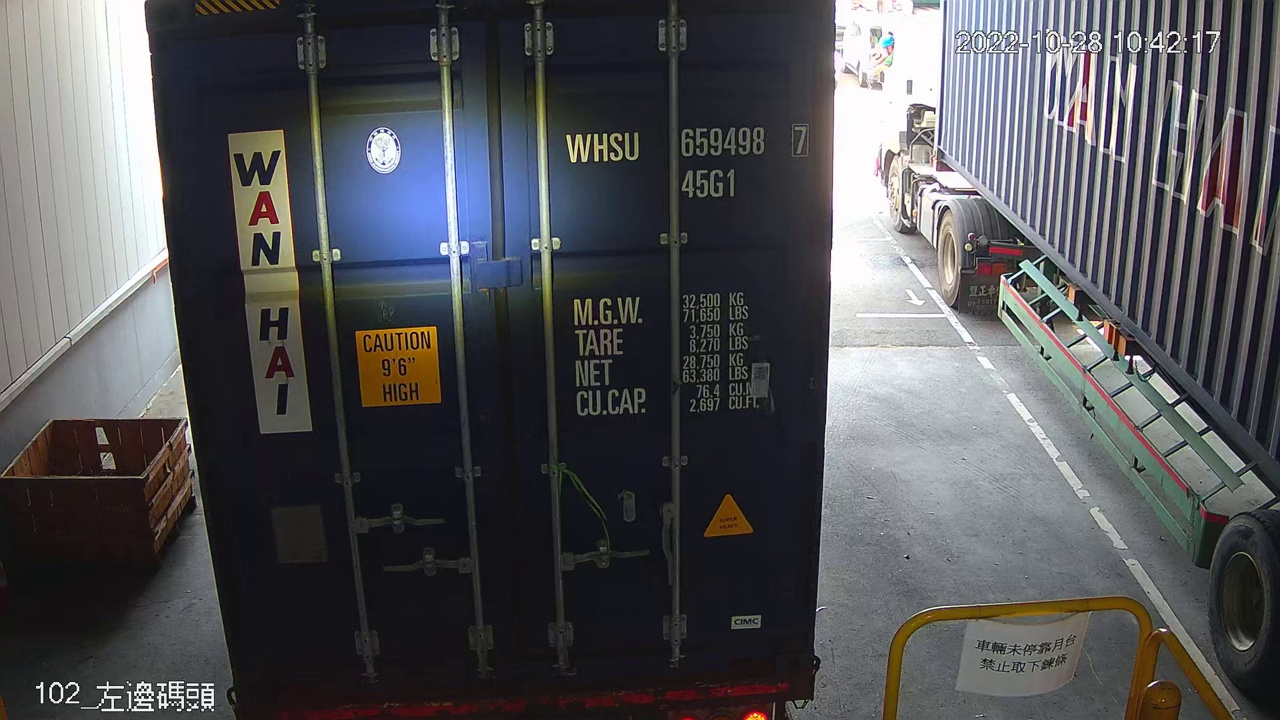container: (559, 119, 816, 206)
